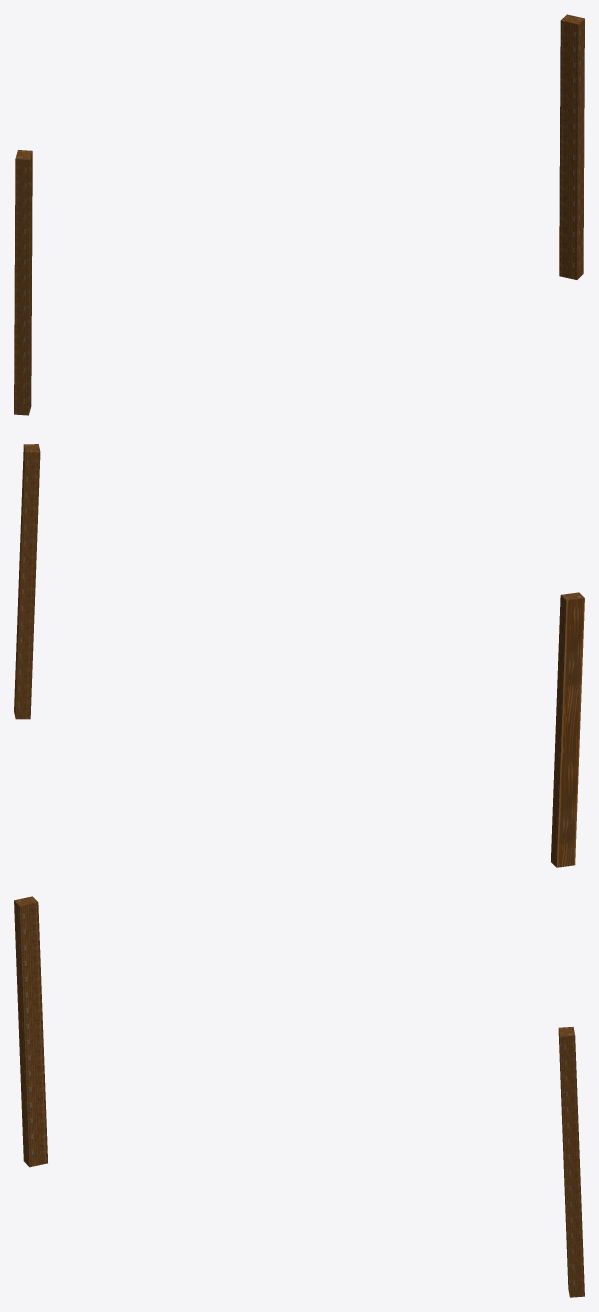
3 views of the same model, one above another, from view 1: azimuth 30°, elevation 25°; view 2: azimuth 150°, elevation 25°; view 3: azimuth 330°, elevation 25° (orthographic).
Visible parts, largest first — view 1: Cube.2002; view 2: Cube.2002; view 3: Cube.2002.
Part boxes in pixels (left/top/right/bottom): Cube.2002: left=14, top=14, right=584, bottom=415; Cube.2002: left=14, top=444, right=584, bottom=867; Cube.2002: left=14, top=896, right=584, bottom=1297.
Bounding box in the file's own units: 1826 × 834 × 142.
Materials: 1 (1 with a texture image).
